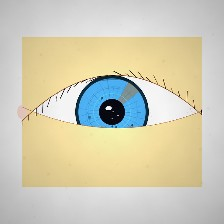pinguecula_lesion: (148, 104, 176, 127)
